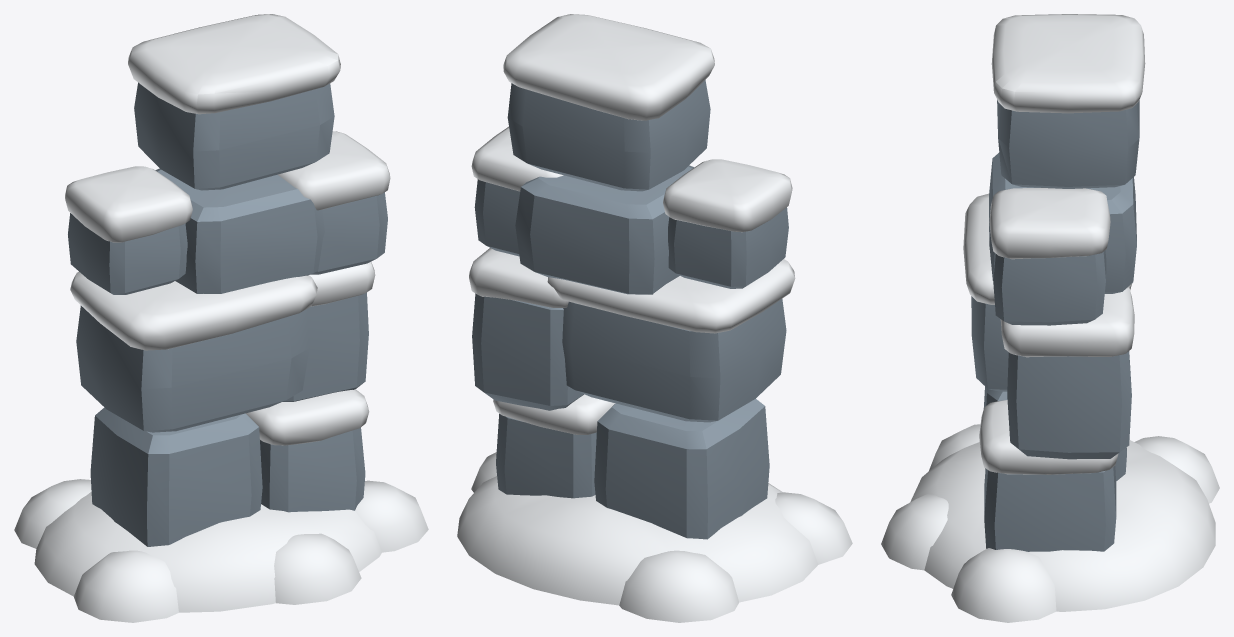
The model's file is SnowyRockPillar.obj.
The picture shows the model from 3 angles, left to right: view 1: azimuth 30°, elevation 25°; view 2: azimuth 150°, elevation 25°; view 3: azimuth 270°, elevation 25°; orthographic projection. The views are drawn at different scales.
Parts seen in each view (by area): view 1: SnowyRockPillar; view 2: SnowyRockPillar; view 3: SnowyRockPillar.
Part boxes in pixels (x1,y1,x2,y2): SnowyRockPillar: (14, 14, 428, 622); SnowyRockPillar: (457, 14, 852, 622); SnowyRockPillar: (881, 14, 1219, 622).
Size of the model in its own units: 6.92 by 9.13 by 5.63.
Materials: 1 (1 with a texture image).
